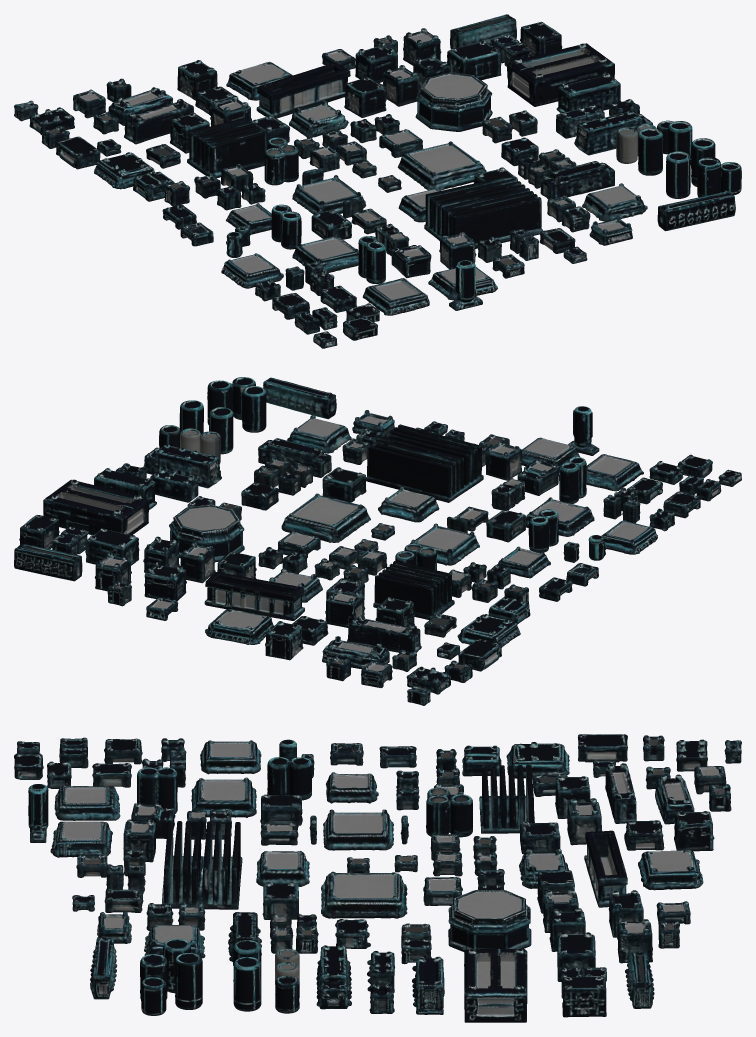
The model's file is Neon Circuit Components 3D Model.glb.
3 views of the same model, one above another, from view 1: azimuth 30°, elevation 25°; view 2: azimuth 150°, elevation 25°; view 3: azimuth 270°, elevation 25° (orthographic). The views are drawn at different scales.
Parts seen in each view (by area): view 1: tripo_node_ee338ce2-63b1-4554-a484-ae078d0be681; view 2: tripo_node_ee338ce2-63b1-4554-a484-ae078d0be681; view 3: tripo_node_ee338ce2-63b1-4554-a484-ae078d0be681.
Boxes of the visible parts, left/top/right/bottom form: tripo_node_ee338ce2-63b1-4554-a484-ae078d0be681: left=14, top=14, right=741, bottom=348; tripo_node_ee338ce2-63b1-4554-a484-ae078d0be681: left=14, top=377, right=741, bottom=705; tripo_node_ee338ce2-63b1-4554-a484-ae078d0be681: left=14, top=734, right=741, bottom=1022.
Size of the model in its own units: 0.8906 by 0.0742 by 1.
Materials: 1 (1 with a texture image).
